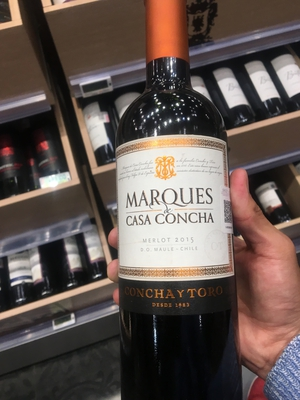marques de casa concha merlot: (104, 16, 245, 389)
